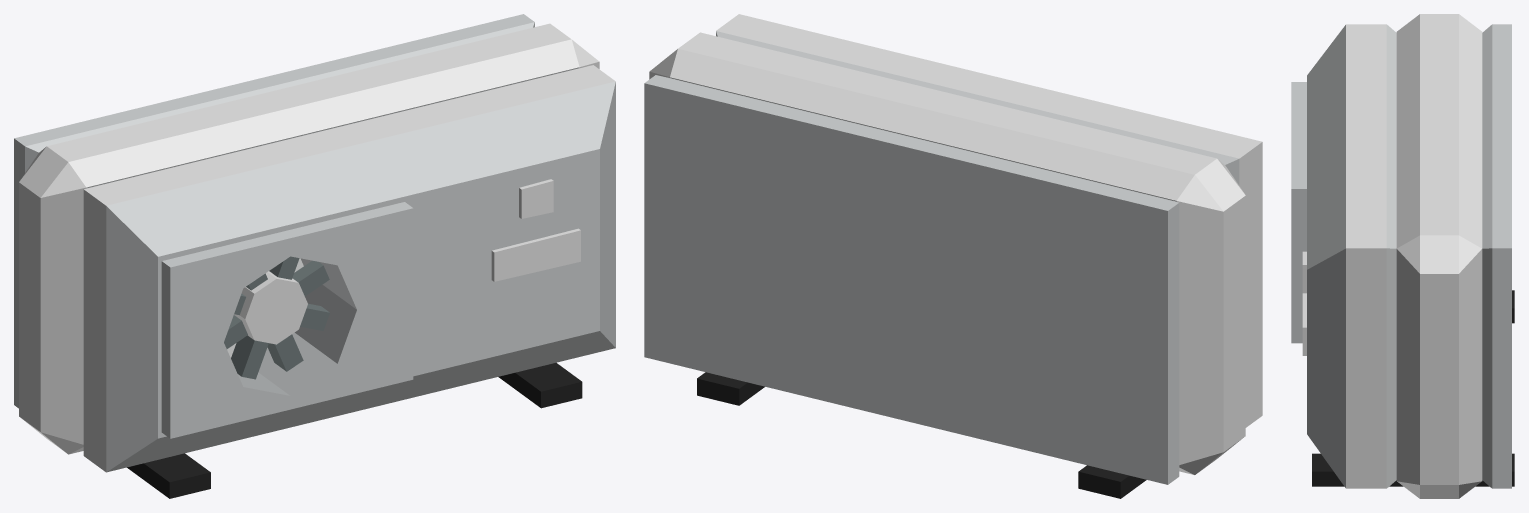
The model's file is Air-Conditioning-Ventilation.fbx.
3 views of the same model, side by side, from view 1: azimuth 30°, elevation 25°; view 2: azimuth 150°, elevation 25°; view 3: azimuth 270°, elevation 25° (orthographic). The views are drawn at different scales.
Parts seen in each view (by area): view 1: Air-Conditioning-Ventilation; view 2: Air-Conditioning-Ventilation; view 3: Air-Conditioning-Ventilation.
Part boxes in pixels (x1,y1,x2,y2): Air-Conditioning-Ventilation: [14, 14, 615, 498]; Air-Conditioning-Ventilation: [644, 14, 1262, 498]; Air-Conditioning-Ventilation: [1291, 14, 1514, 498].
Bounding box in the file's own units: 1.87 × 0.9689 × 0.7189.
